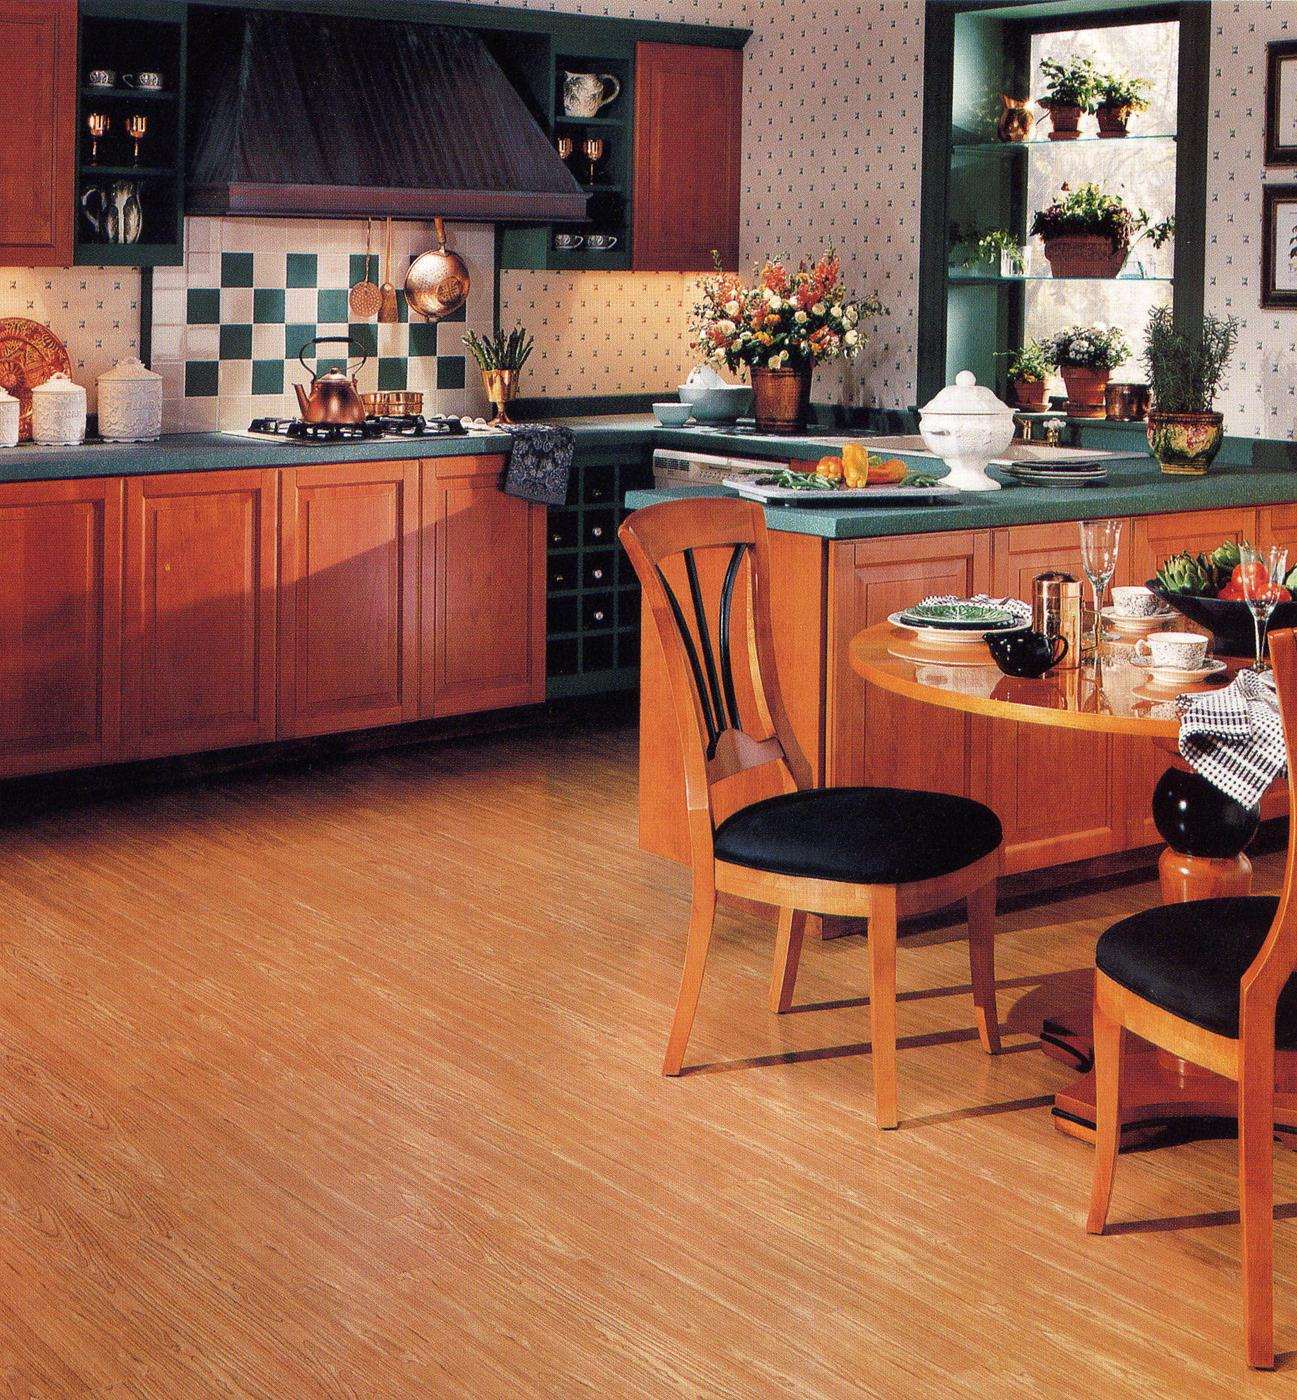Matera: (705, 270, 864, 426), (1128, 315, 1245, 479), (1023, 190, 1134, 280), (1051, 315, 1121, 424), (989, 311, 1053, 409), (1051, 52, 1096, 151), (1100, 63, 1150, 151)
